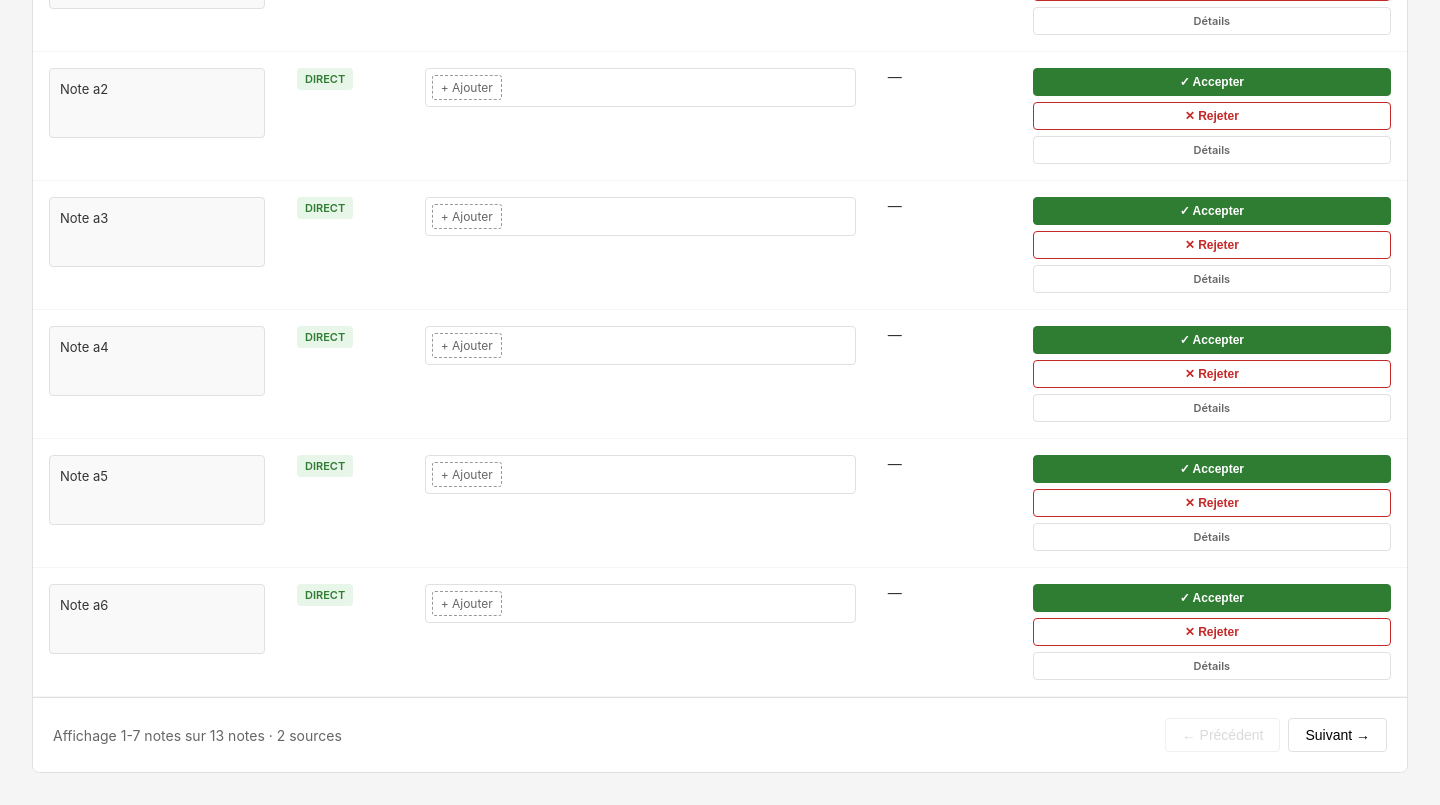
Test: Validation › bonus: Prev/Next paginates whole groups without ever splitting one across pages
(page scrolled)
Expected: the text "Affichage 1-7 notes sur 13 notes · 2 sources" is shown, [53,726,342,744]
What coordinates should you click on to do the following:
click the button "Suivant →"
I would click on:
 (1338, 735)
Its box is [1288,718,1387,752].
(page scrolled)
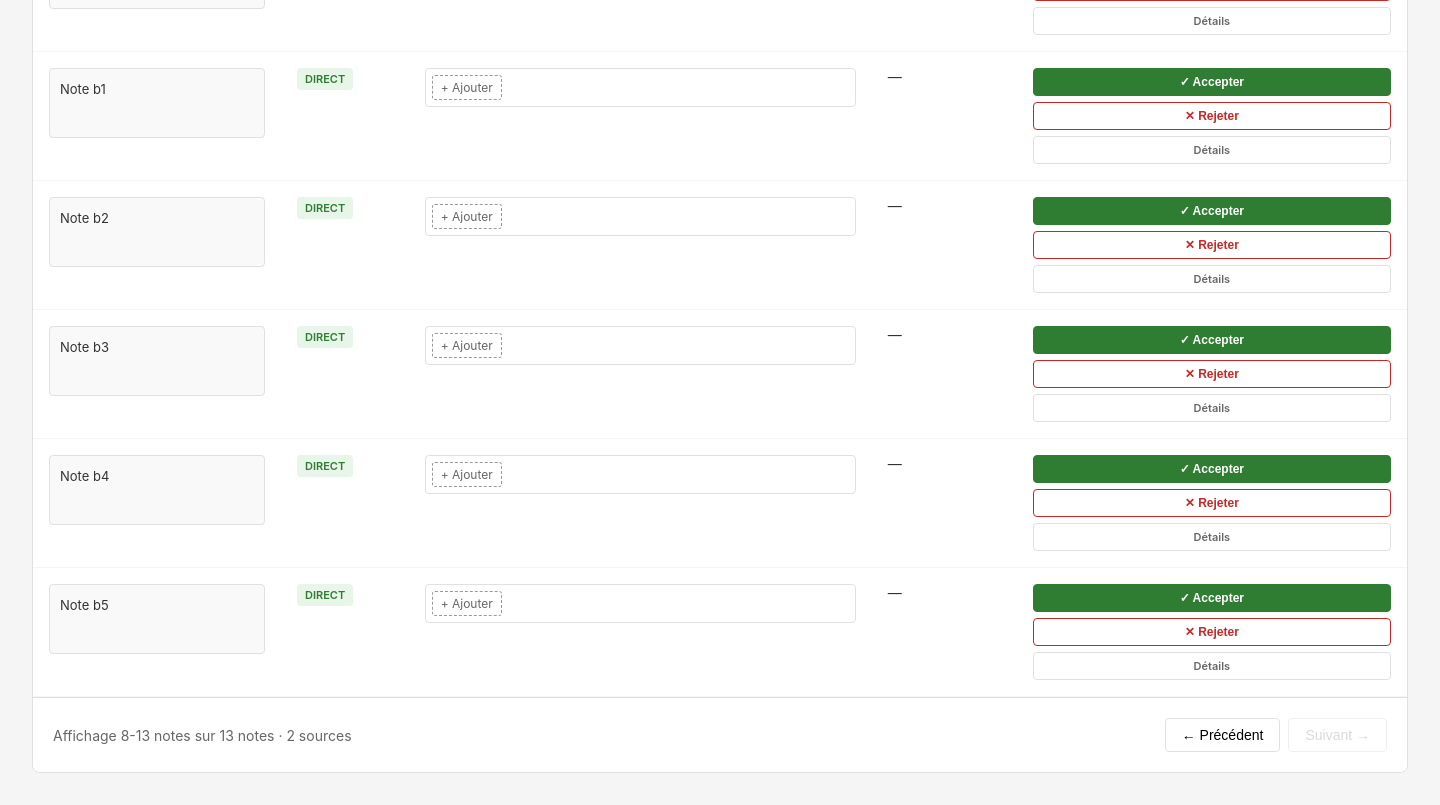
Result: the text "Affichage 8-13 notes sur 13 notes · 2 sources" is shown at [53,726,352,744]
